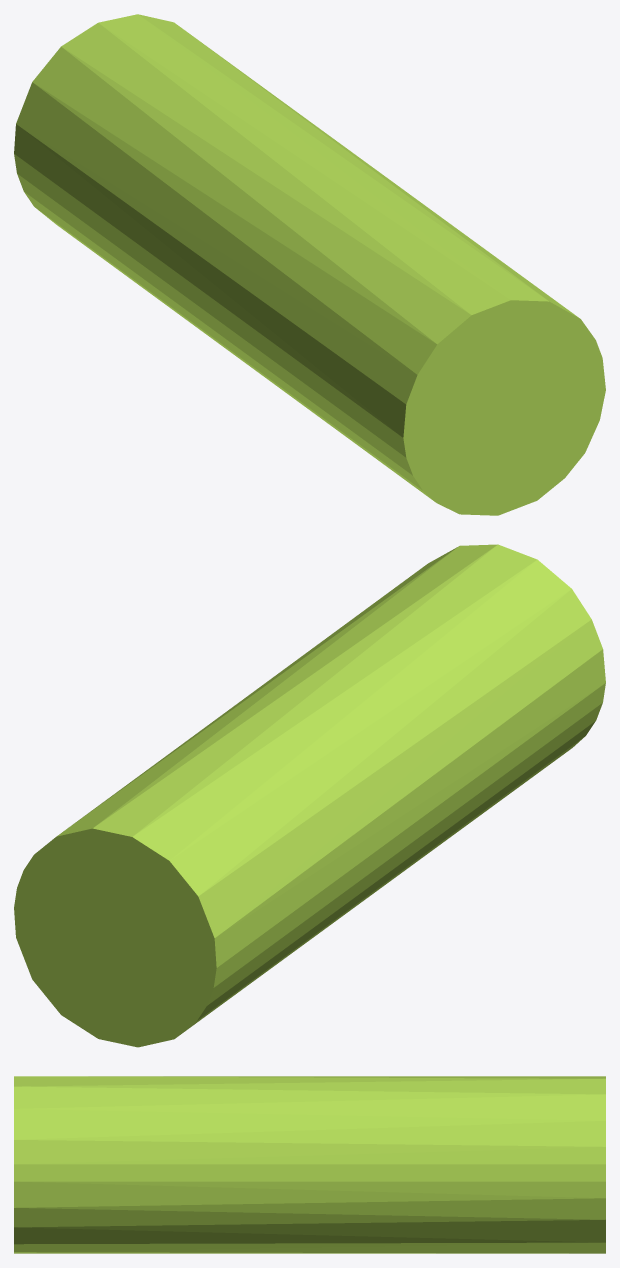
The model's file is industrial_06397_link_2_respondable_respondable_respondable_respondable_respondable_respondable_coll_7.dae.
3 renders of one model, top to bottom at view 1: azimuth 30°, elevation 25°; view 2: azimuth 150°, elevation 25°; view 3: azimuth 270°, elevation 25°, orthographic. The views are drawn at different scales.
Visible parts, largest first — view 1: node; view 2: node; view 3: node.
Boxes of the visible parts, x1,y1,x2,y2 form: node: (14,14,605,515); node: (14,544,605,1047); node: (14,1076,605,1253).
Bounding box in the file's own units: 0.0852 × 0.0852 × 0.2828.
